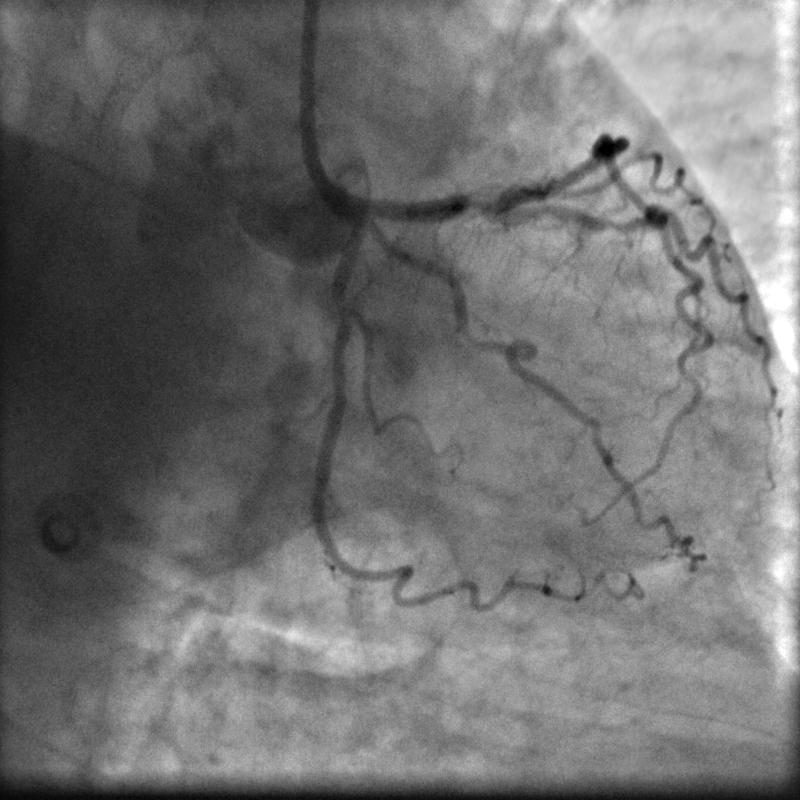Stenosis: (459, 185, 498, 222)
